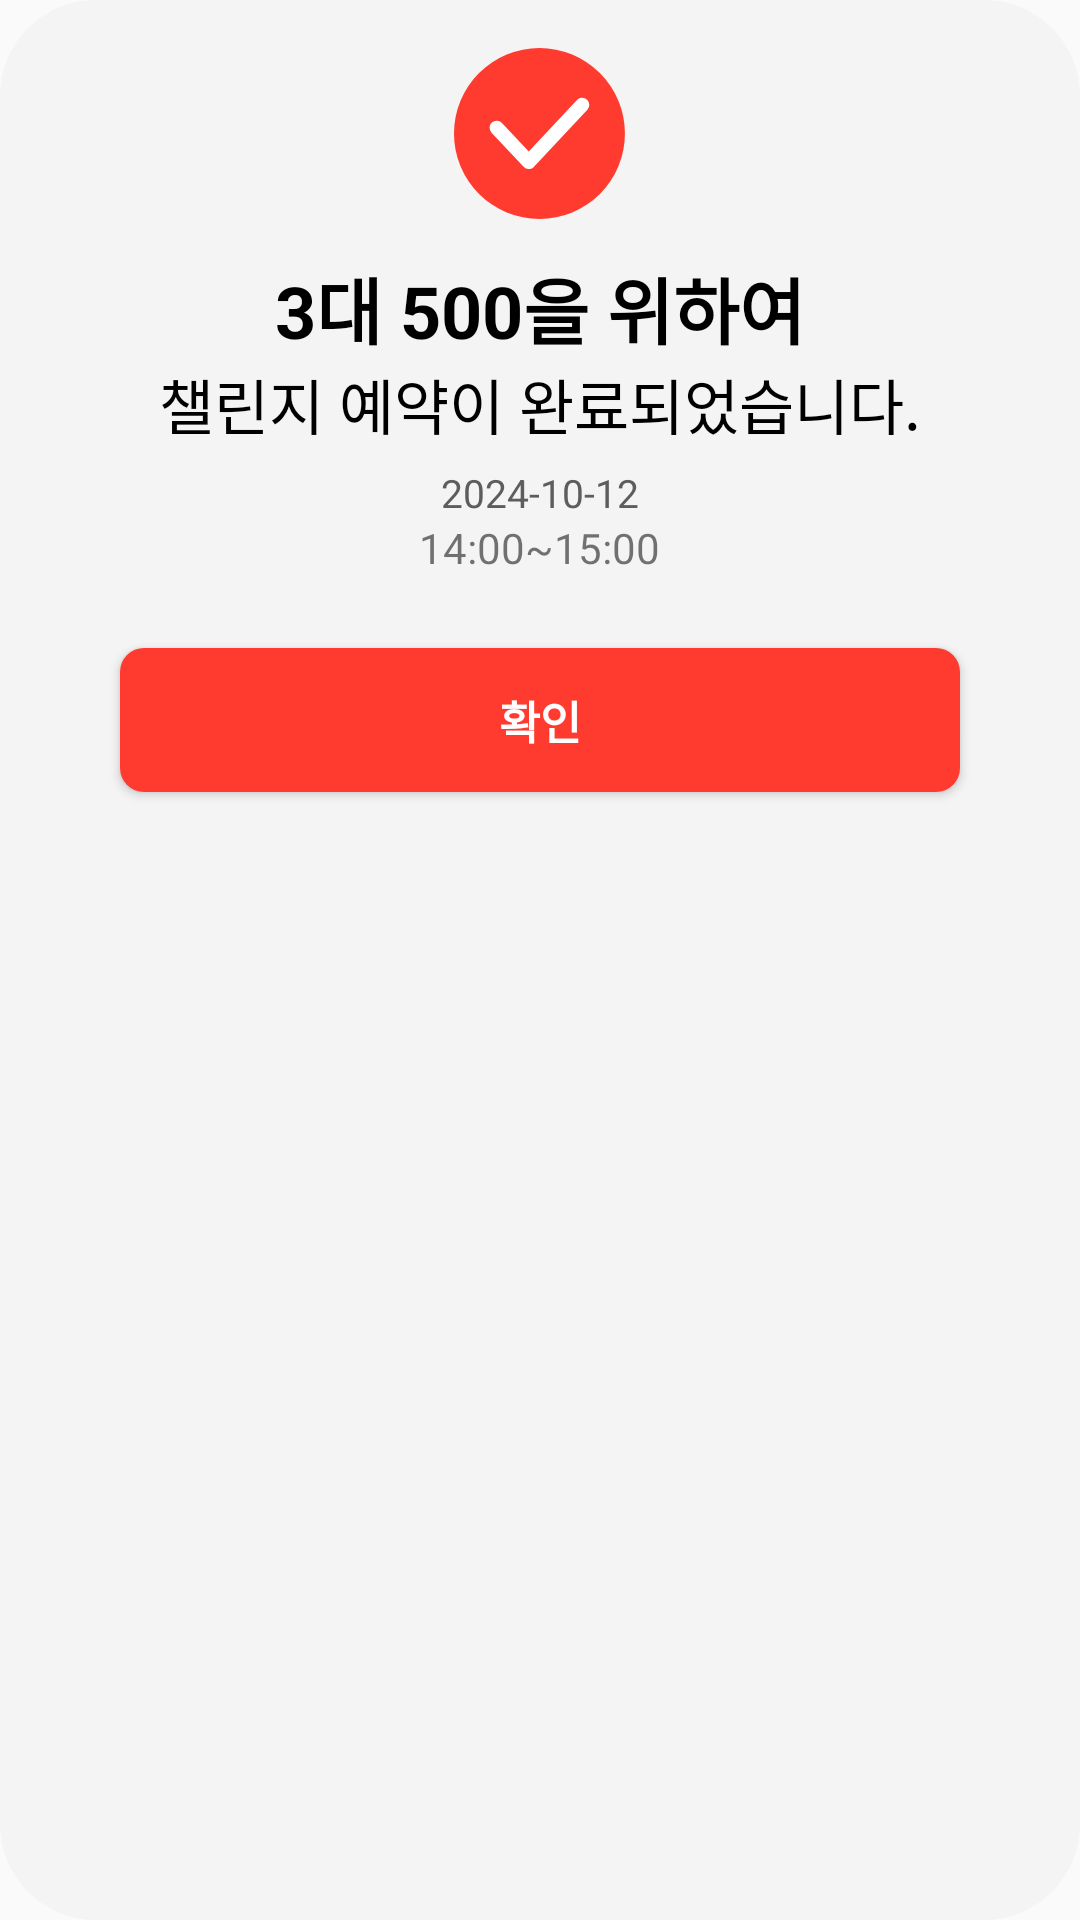

Icons on this 1080px×1920px Android screen, each with its box as bbox(x1, y1, x2, y2):
체크박스 이미지: bbox(454, 48, 625, 219)
